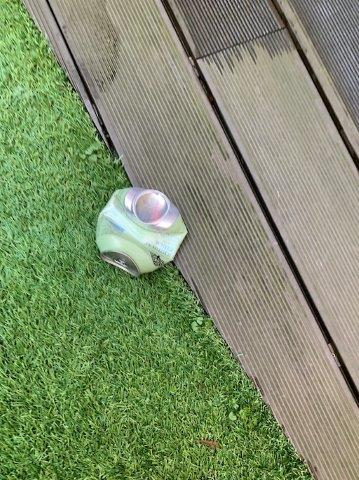kaleng: (96, 187, 187, 276)
